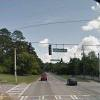Car: (65, 74, 81, 86)
